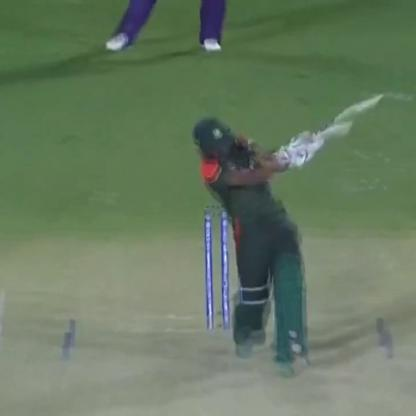bat: (273, 94, 400, 170)
pitch: (2, 290, 416, 416)
